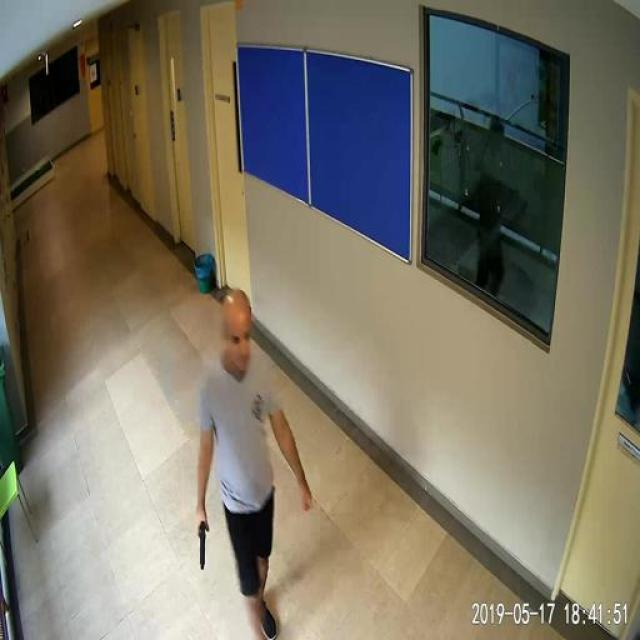Gun: (190, 515, 222, 576)
